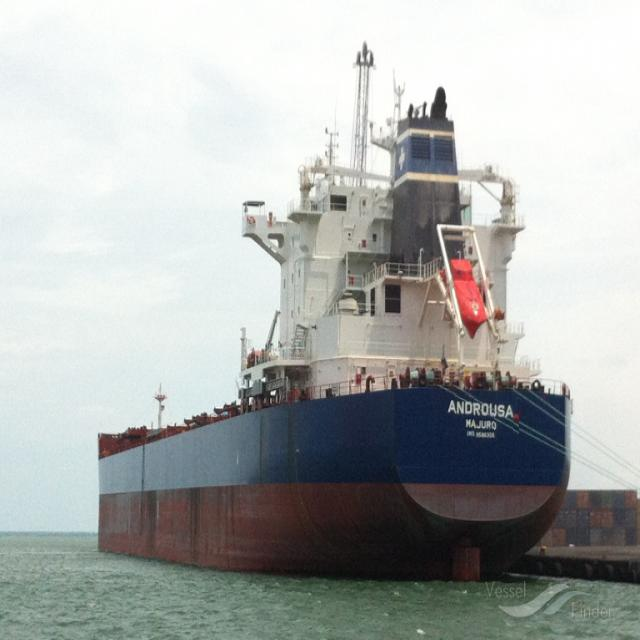OCR: (445, 393, 519, 450)
